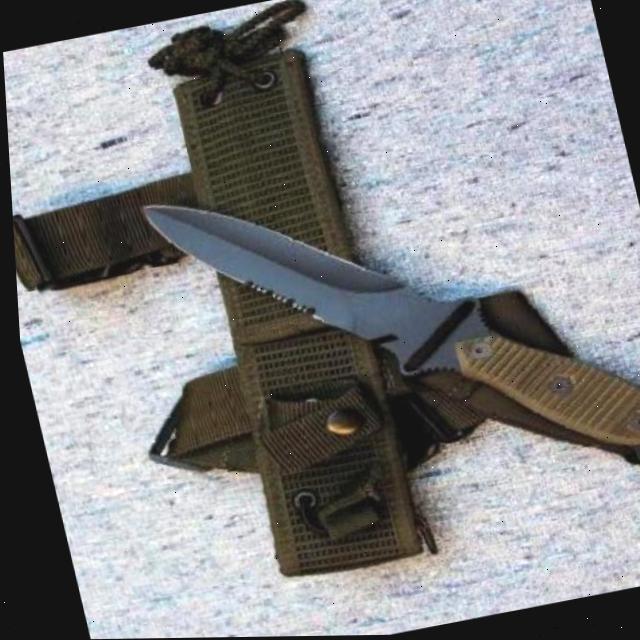knife: (133, 118, 640, 526)
